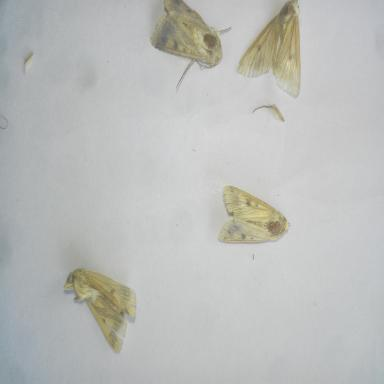abw: (147, 0, 234, 93), (234, 0, 304, 101), (63, 264, 138, 356), (216, 183, 292, 252)
